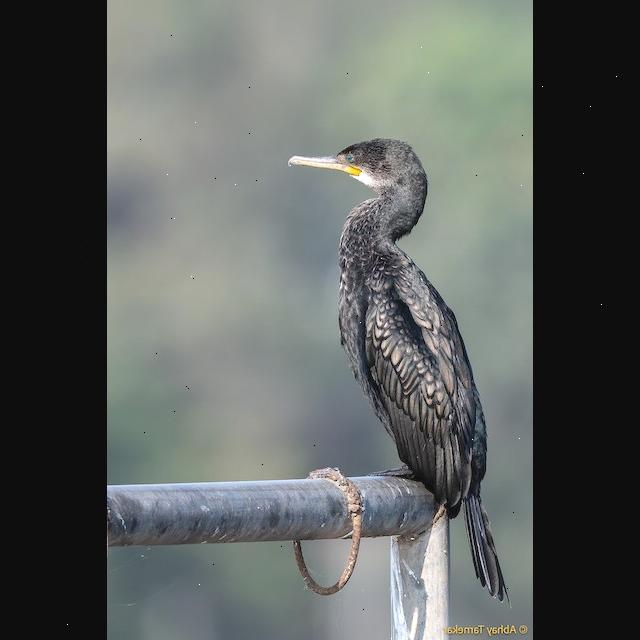cormorant: (278, 132, 516, 608)
